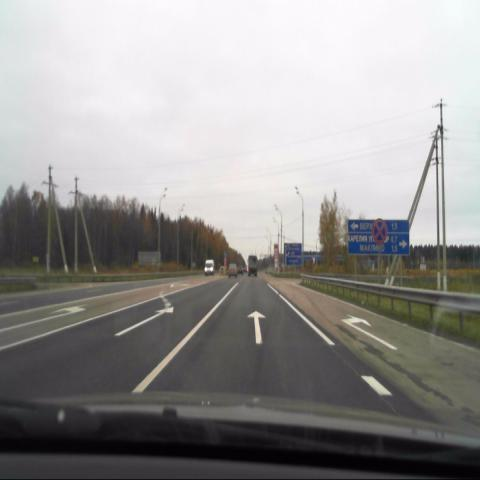3_27: (372, 218, 388, 244)
